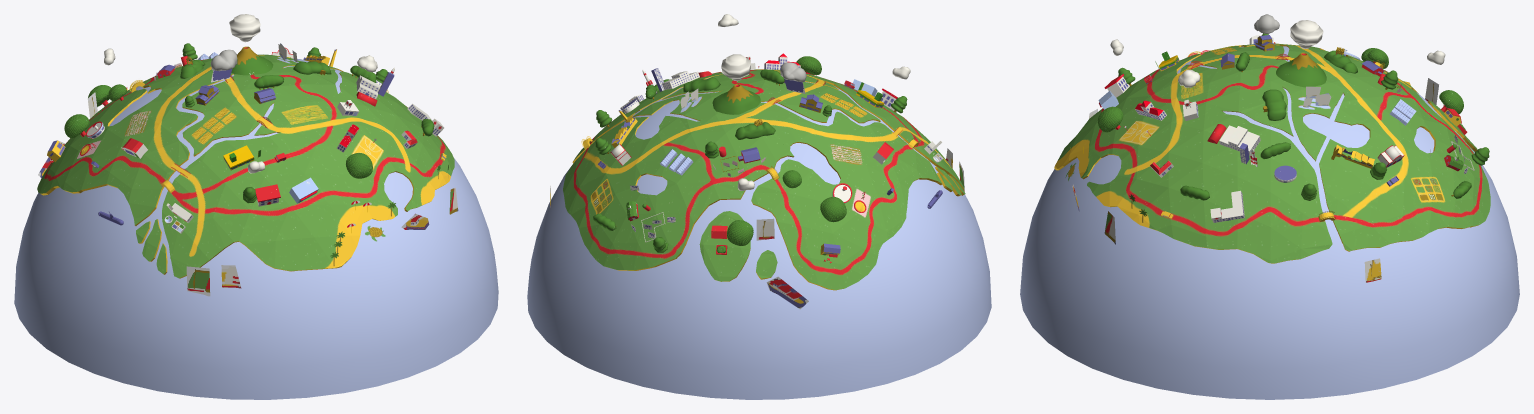
The model's file is world_compress.glb.
3 views of the same model, side by side, from view 1: azimuth 30°, elevation 25°; view 2: azimuth 150°, elevation 25°; view 3: azimuth 270°, elevation 25° (orthographic). The views are drawn at different scales.
Parts seen in each view (by area): view 1: ICO球, ICO球.004, 円柱.002, 19.001, 平面.032, 08, 15, 1, 円柱.006, 平面.055; view 2: ICO球, ICO球.004, 円柱.002, 19.001, 1, 平面.032, 08, 15, 円柱.006, 平面.055; view 3: ICO球, ICO球.004, 円柱.002, 19.001, 15, 08, 平面.032, 1, 円柱.006.
Part boxes in pixels (<box>): ICO球: <box>14,58,498,399</box>; ICO球.004: <box>37,54,454,278</box>; 円柱.002: <box>64,43,448,266</box>; 19.001: <box>98,49,394,233</box>; 平面.032: <box>38,92,458,296</box>; 08: <box>91,124,359,206</box>; 15: <box>121,80,444,158</box>; 1: <box>47,47,293,162</box>; 円柱.006: <box>229,14,260,42</box>; 平面.055: <box>210,49,237,71</box>; ICO球: <box>527,77,991,399</box>; ICO球.004: <box>563,69,965,290</box>; 円柱.002: <box>581,14,919,252</box>; 19.001: <box>611,68,943,242</box>; 1: <box>610,81,866,263</box>; 平面.032: <box>550,148,964,309</box>; 08: <box>764,53,897,195</box>; 15: <box>620,56,893,164</box>; 円柱.006: <box>721,54,750,81</box>; 平面.055: <box>780,62,806,81</box>; ICO球: <box>1020,46,1519,399</box>; ICO球.004: <box>1054,43,1490,263</box>; 円柱.002: <box>1070,33,1489,222</box>; 19.001: <box>1151,47,1474,171</box>; 15: <box>1183,35,1296,222</box>; 08: <box>1098,51,1179,120</box>; 平面.032: <box>1072,78,1438,282</box>; 1: <box>1220,49,1467,167</box>; 円柱.006: <box>1290,20,1323,48</box>.
Bounding box in the file's own units: 6.57 × 4 × 6.57.
Materials: 11 (11 with a texture image).
